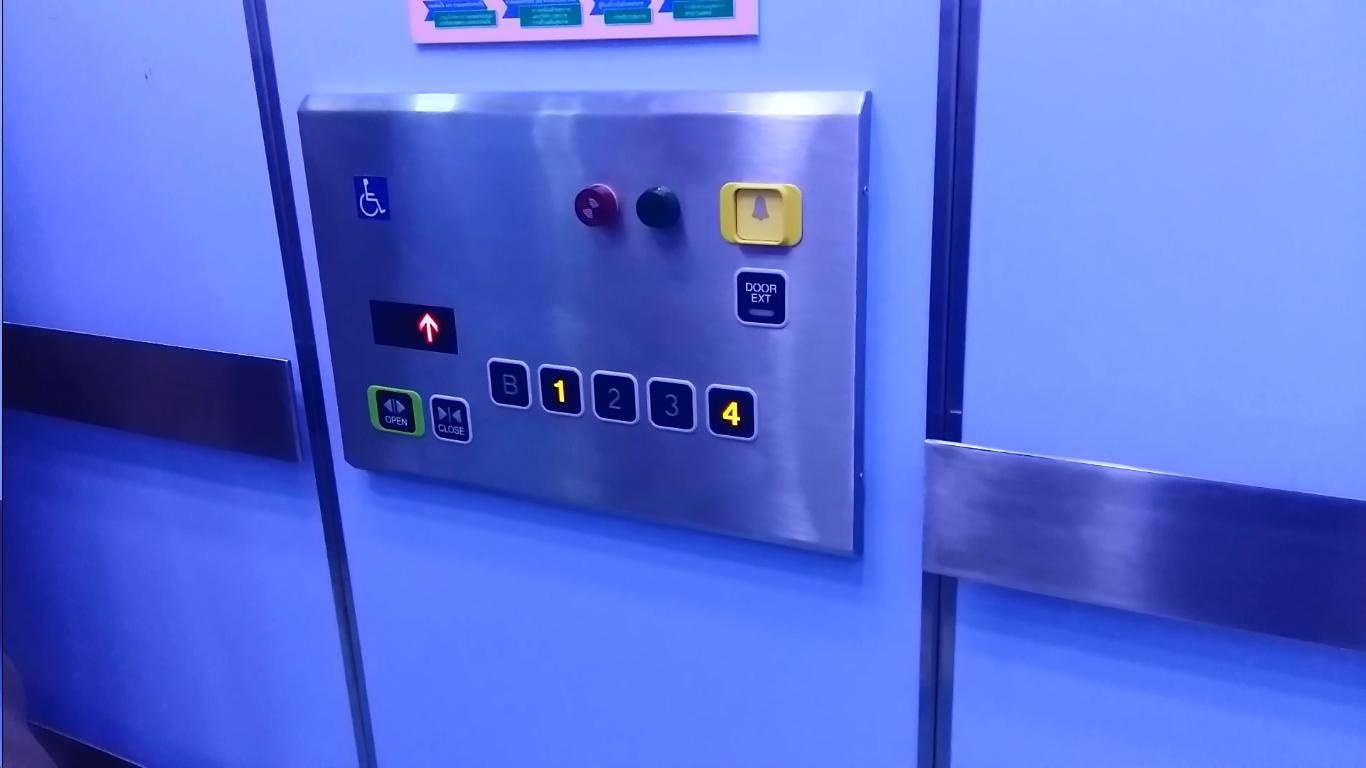1: (537, 360, 584, 416)
2: (590, 370, 640, 424)
3: (646, 375, 696, 431)
4: (704, 383, 758, 441)
B: (488, 357, 533, 410)
CH: (353, 175, 390, 221)
alarm: (719, 182, 803, 246)
close: (428, 393, 474, 446)
empty: (636, 186, 681, 229)
led: (369, 300, 461, 357)
open: (367, 384, 424, 437)
text: (735, 267, 789, 326)
unknown: (574, 184, 619, 229)
